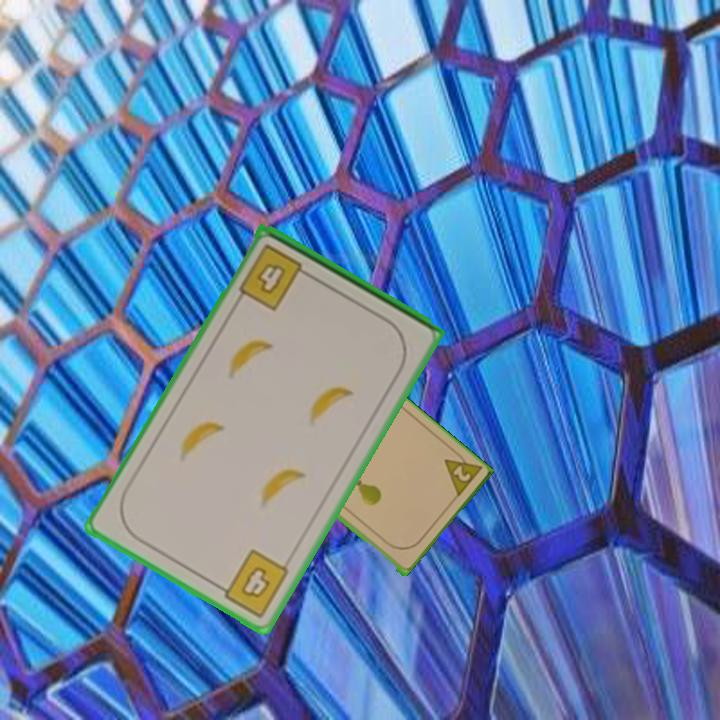2p: (440, 445, 484, 502)
4b: (211, 545, 292, 621), (235, 240, 315, 314)
